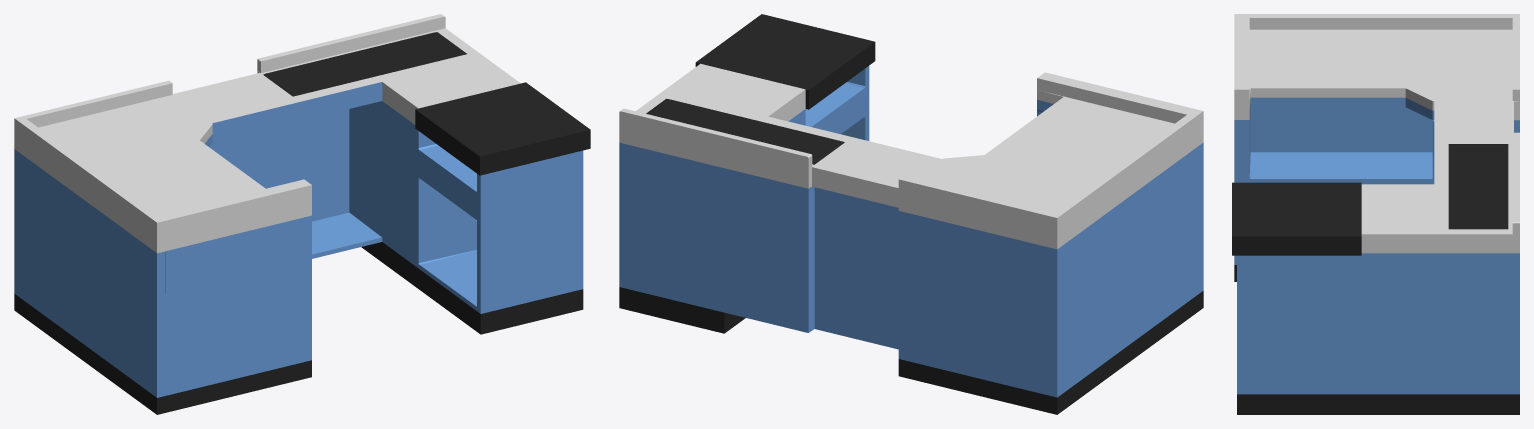
Rendered from CheckoutBelt.fbx.
3 renders of one model, left to right at view 1: azimuth 30°, elevation 25°; view 2: azimuth 150°, elevation 25°; view 3: azimuth 270°, elevation 25°, orthographic. The views are drawn at different scales.
Parts seen in each view (by area): view 1: Cube; view 2: Cube; view 3: Cube.
Part boxes in pixels (box(x1,y1,x2,y2)): Cube: box(14, 14, 590, 414); Cube: box(619, 14, 1203, 414); Cube: box(1232, 14, 1519, 414).
Bounding box in the file's own units: 2579 × 1097 × 1487.
